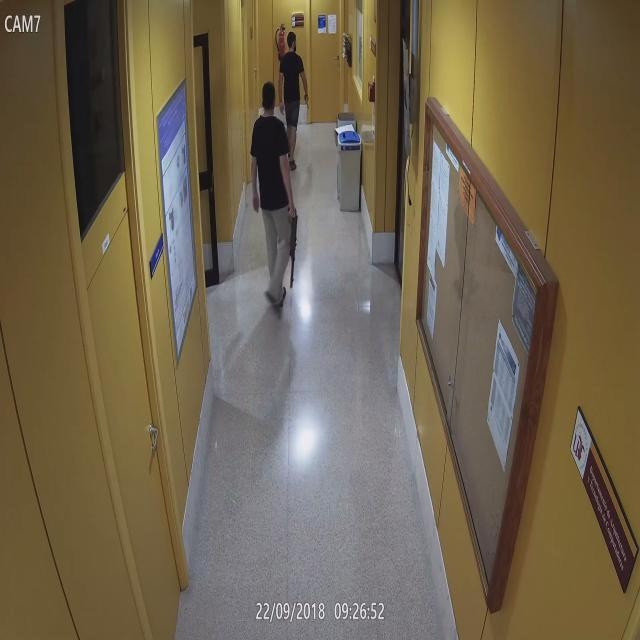weapon: (289, 210, 299, 286), (302, 92, 308, 110)
